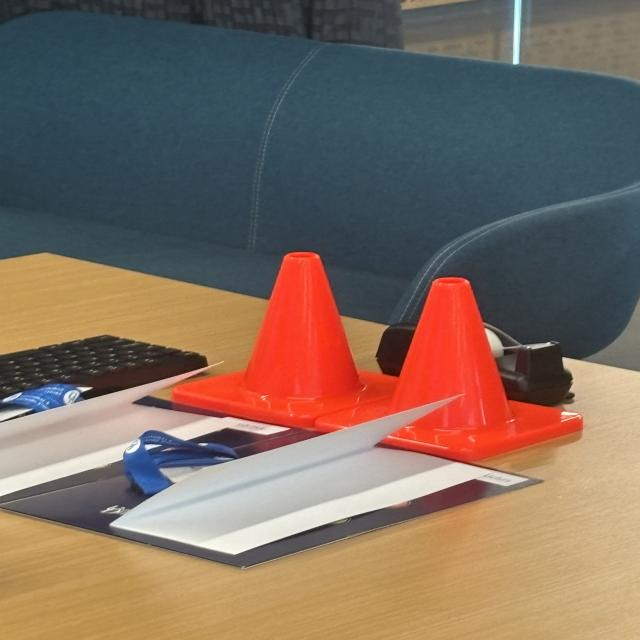Traffic Cone: (314, 272, 586, 463), (169, 245, 423, 435)
